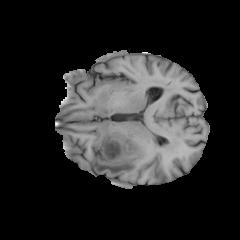glioma: (93, 135, 136, 175)
